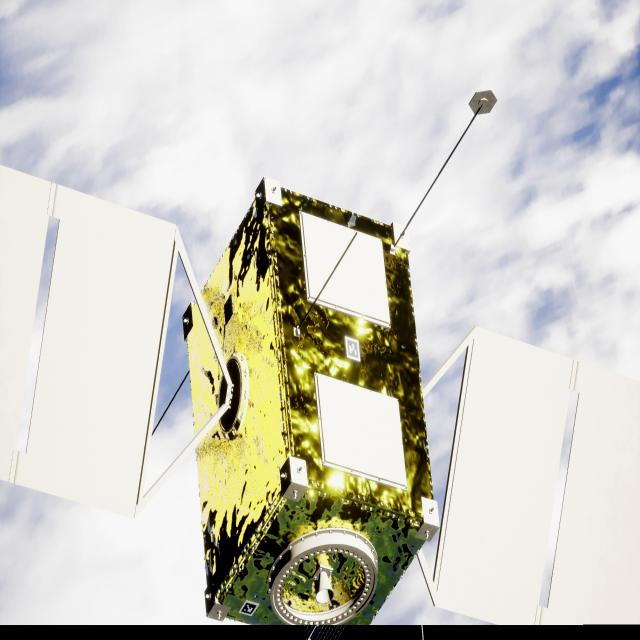satellite: (0, 166, 640, 628)
